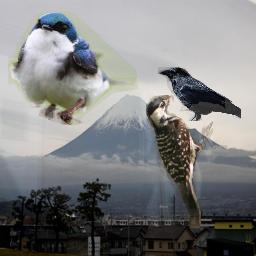Crow: (158, 67, 241, 121)
Swallow: (8, 11, 138, 125)
Woodpecker: (146, 95, 213, 227)
